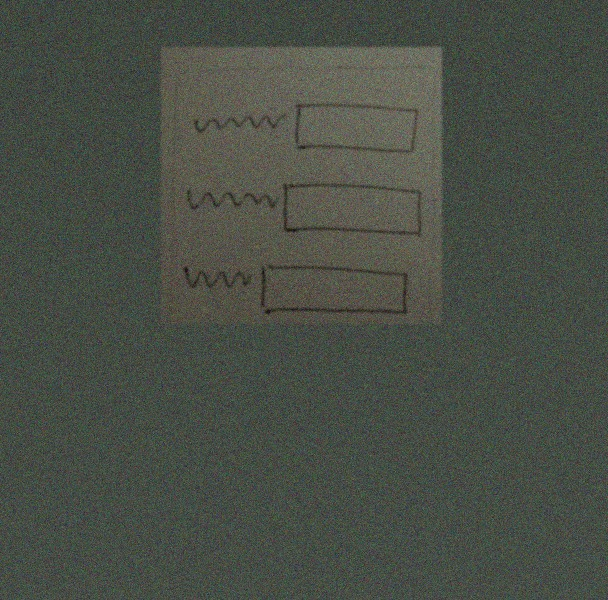text: (182, 184, 281, 215), (189, 107, 287, 132), (181, 264, 255, 295)
text_input: (260, 261, 412, 318), (283, 179, 424, 240), (292, 99, 423, 156)
